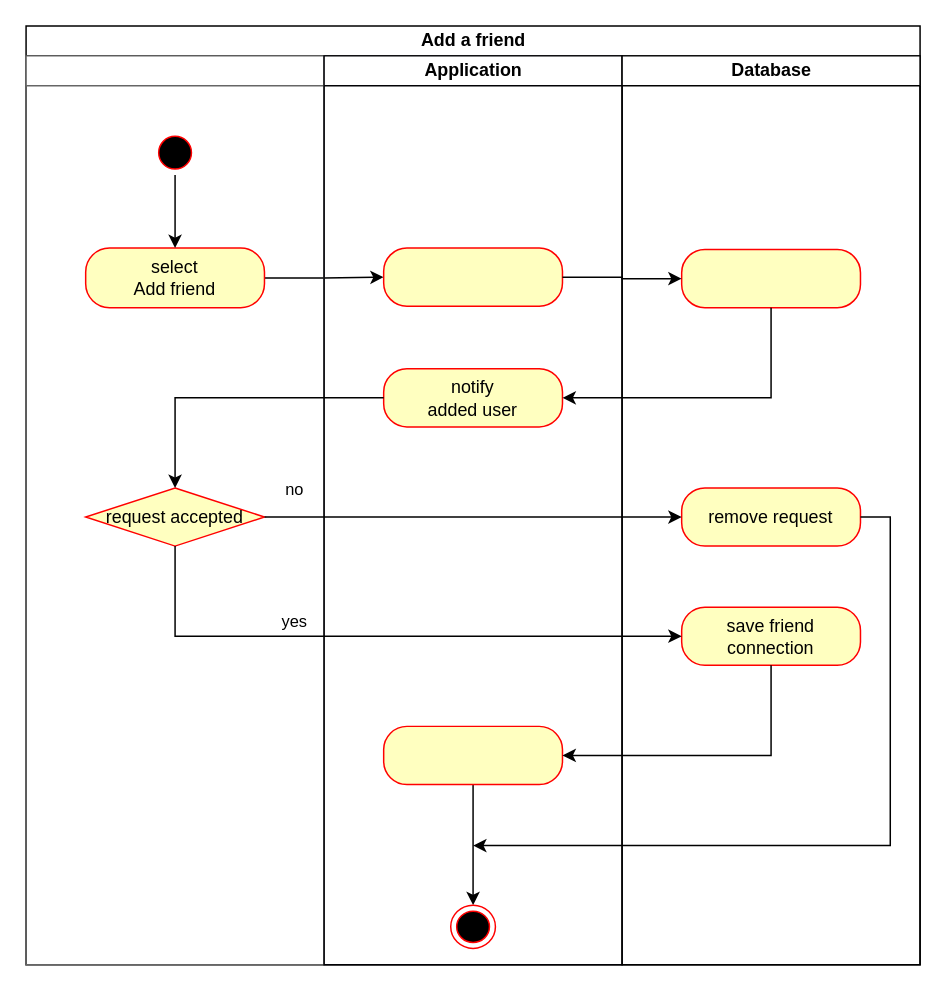
Image size: 946x991. Some labels were removed from this diagram. Each missing label, with the box of its shape:
display success: (382, 247, 562, 306)
notify user about his new friend: (382, 725, 562, 784)
Registered User: (25, 54, 324, 965)
save request: (680, 248, 860, 308)
